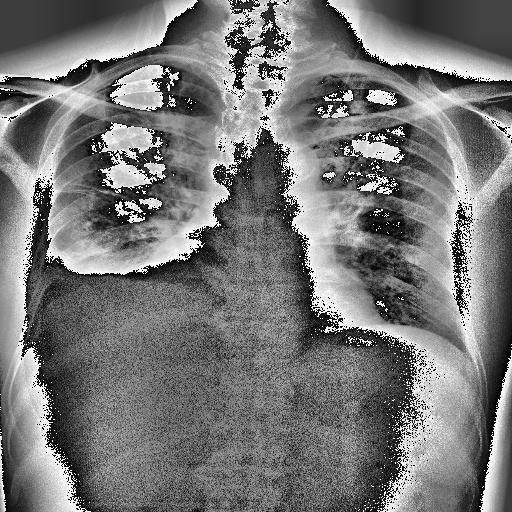0- Aortic enlargement: (241, 138, 318, 188), (258, 139, 319, 192), (256, 144, 320, 193)
10- Pleural effusion: (36, 255, 220, 328), (32, 225, 142, 305), (46, 241, 135, 319)
13- Pulmonary fibrosis: (132, 70, 190, 172), (50, 175, 133, 199), (180, 57, 223, 102), (58, 180, 133, 202), (50, 181, 130, 200)
3- Cardiomegaly: (146, 246, 376, 324)
6- Infiltration: (63, 229, 120, 266)
